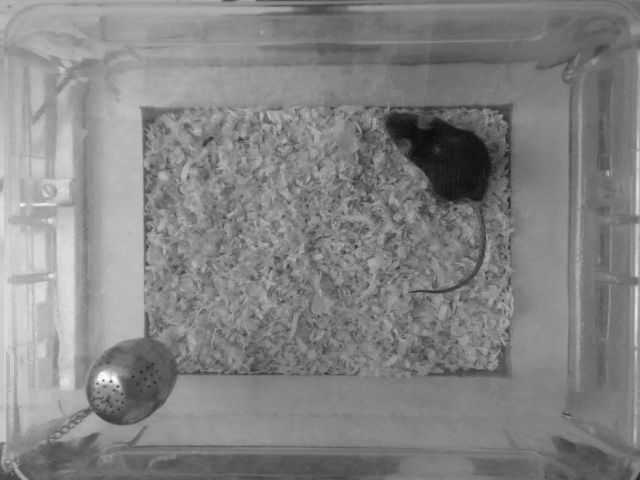mice: (380, 107, 491, 295)
